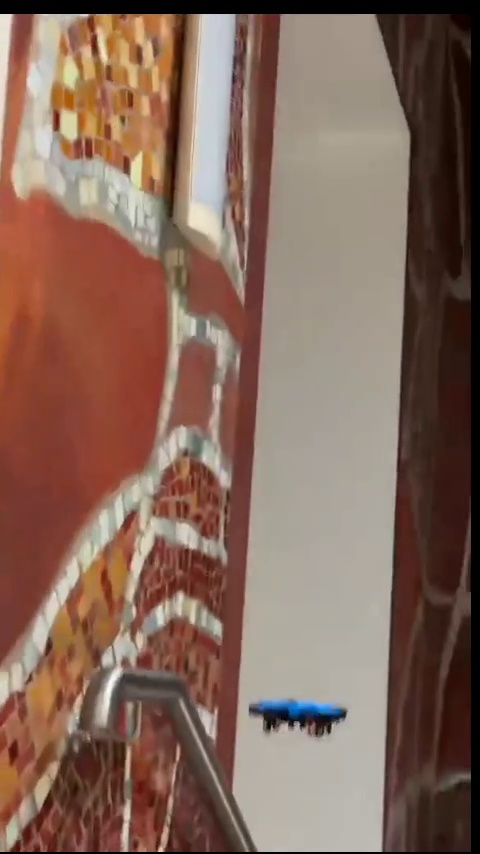drone: (251, 700, 347, 737)
